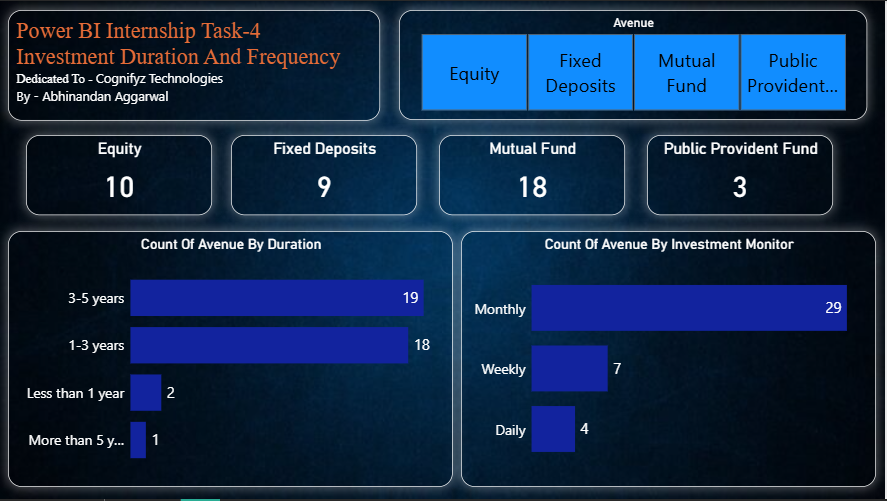

The dashboard page shown, as its layout file describes it:
{"tool":"powerbi","page":{"name":"Page 1","canvas":[1280,720],"ordinal":0},"visuals":[{"type":"textbox","box":[13.4,13.4,537.5,159.6],"z":0},{"type":"clusteredBarChart","title":"Count Of Avenue By Duration","fields":{"Y":["CountNonNull(Data_set 2.Avenue)"],"Category":["Data_set 2.Duration"]},"box":[13,332.5,643.4,370.1],"z":1},{"type":"clusteredBarChart","title":"Count Of Avenue By Investment Monitor","fields":{"Y":["CountNonNull(Data_set 2.Avenue)"],"Category":["Data_set 2.Invest_Monitor"]},"box":[668,332.5,600,370.1],"z":2},{"type":"slicer","title":"Avenue","fields":{"Values":["Data_set 2.Avenue"]},"box":[578.3,13,676.6,159],"z":3},{"type":"card","title":"Equity","fields":{"Values":["Data_set 2.Equity"]},"box":[39,193.7,268.9,115.7],"z":4},{"type":"card","title":"Fixed Deposits","fields":{"Values":["Data_set 2.Fixed Deposits"]},"box":[335.4,193.7,268.9,115.7],"z":5},{"type":"card","title":"Mutual Fund","fields":{"Values":["Data_set 2.Mutual Fund"]},"box":[636.1,193.7,268.9,115.7],"z":6},{"type":"card","title":"Public Provident Fund","fields":{"Values":["Data_set 2.Public Provident Fund"]},"box":[936.9,193.7,268.9,115.7],"z":7}]}

Visuals, with their boxes in screenshot pixels (x1, y1, x2, y2), scaled from the page's 1280x720 canvas onto the 887x501 screenshot:
textbox: {"x1": 9, "y1": 9, "x2": 382, "y2": 120}
"Count Of Avenue By Duration" clusteredBarChart: {"x1": 9, "y1": 231, "x2": 455, "y2": 489}
"Count Of Avenue By Investment Monitor" clusteredBarChart: {"x1": 463, "y1": 231, "x2": 879, "y2": 489}
"Avenue" slicer: {"x1": 401, "y1": 9, "x2": 870, "y2": 120}
"Equity" card: {"x1": 27, "y1": 135, "x2": 213, "y2": 215}
"Fixed Deposits" card: {"x1": 232, "y1": 135, "x2": 419, "y2": 215}
"Mutual Fund" card: {"x1": 441, "y1": 135, "x2": 627, "y2": 215}
"Public Provident Fund" card: {"x1": 649, "y1": 135, "x2": 836, "y2": 215}
